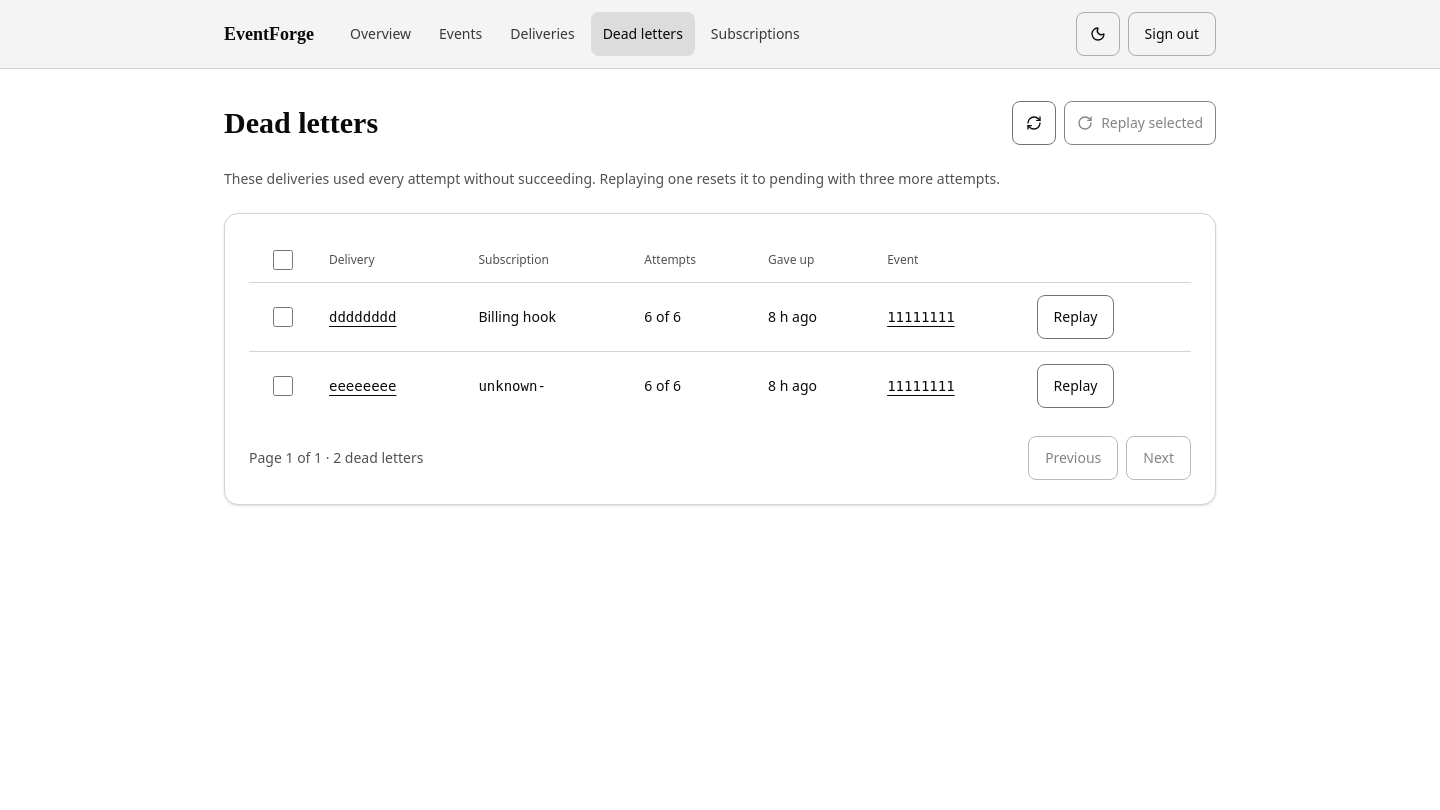
Test: Replaying a selection › lists the deliveries the API could not replay
Click the checkbox named "Select all on this page" at (283, 260), box [273,250,293,270]
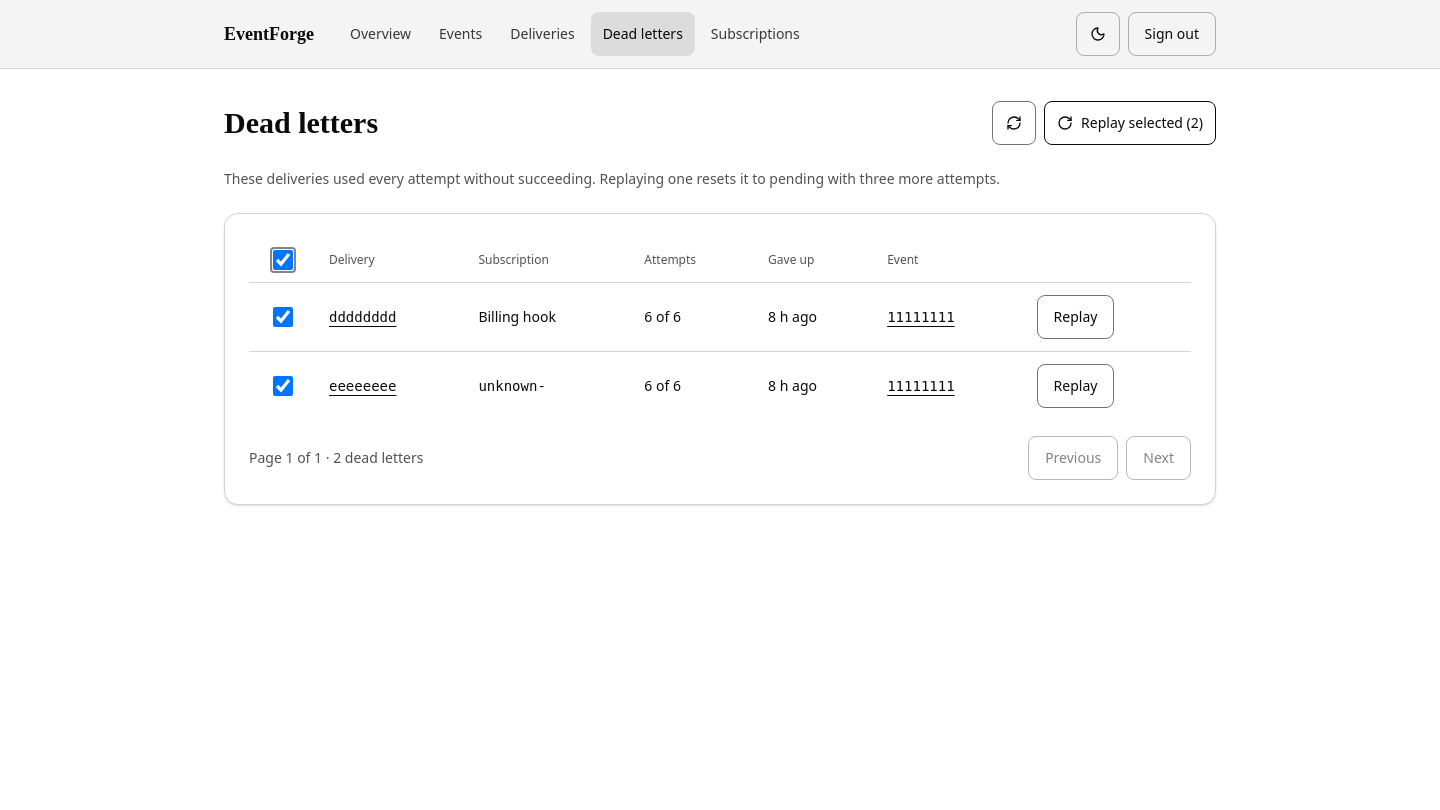
Click the button "Replay selected (2)" at (1130, 123), box [1044,101,1216,145]
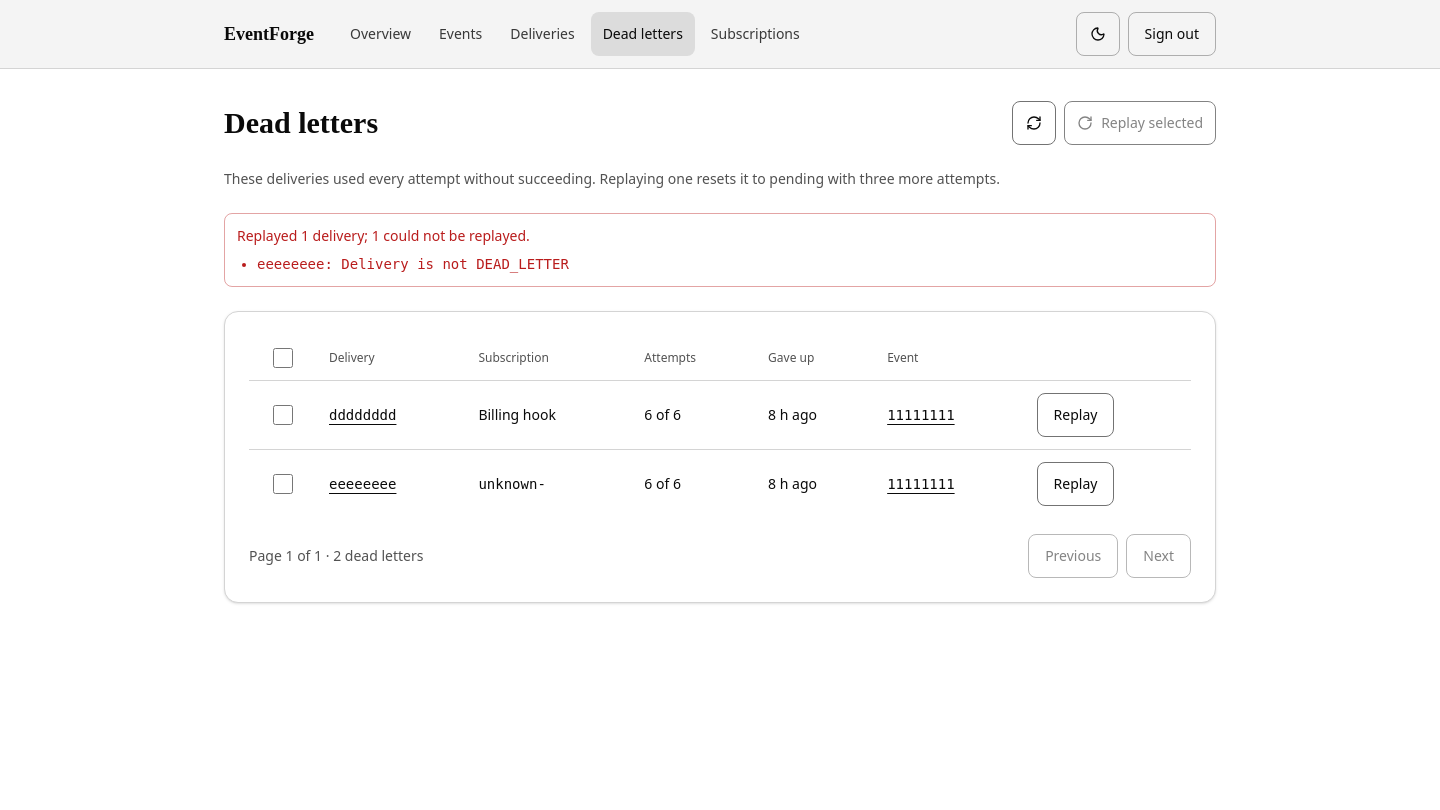
Check: the message shows "Replayed 1 delivery; 1 could not be replayed.", box [237,226,530,245]
Check: the message shows "eeeeeeee: Delivery is not DEAD_LETTER", box [257,256,569,272]
